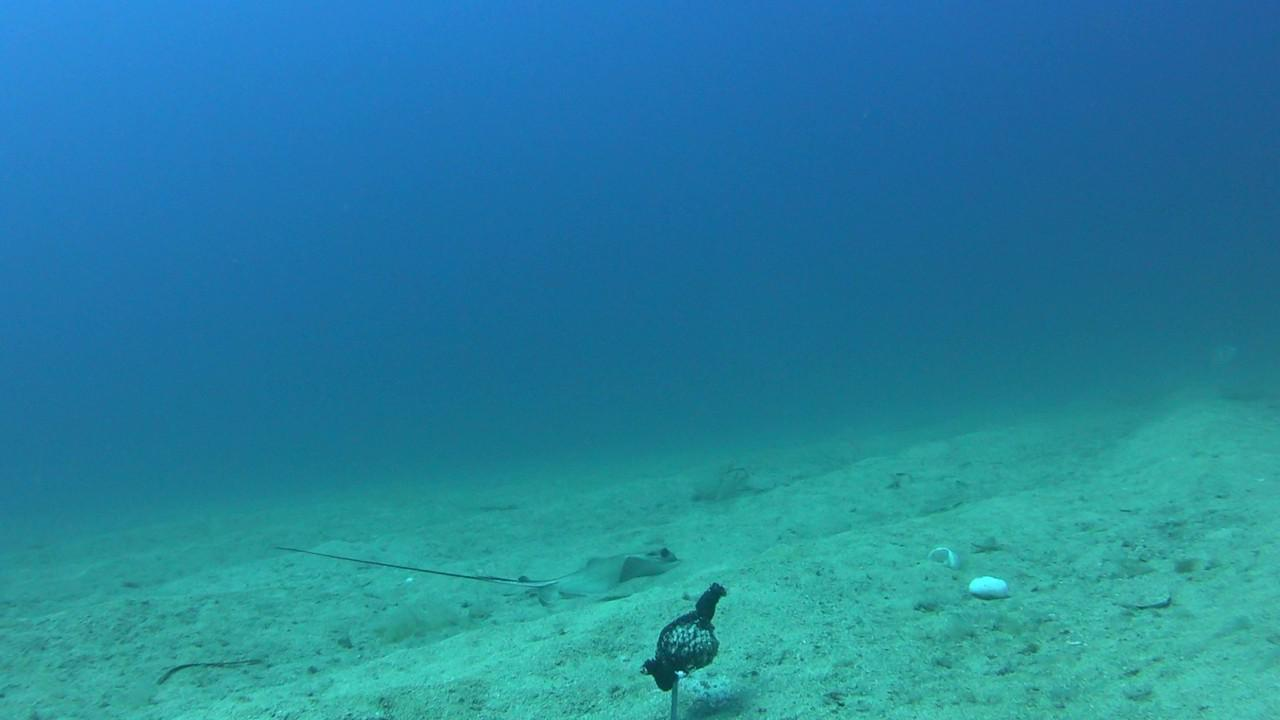myliobatis: (260, 538, 688, 614)
